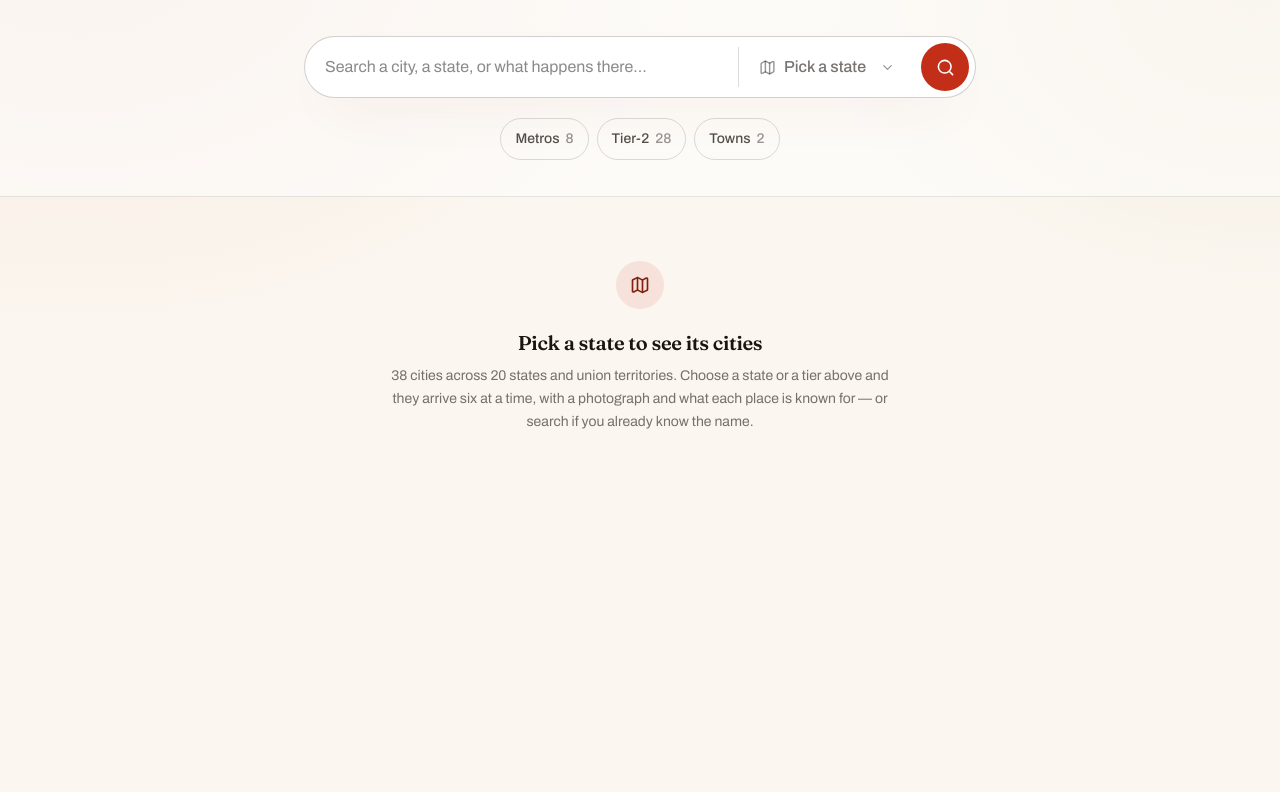
Test: CityExplorer › clicking the chip you are on clears it and closes the listing
Click the button "Metros8".
click(544, 139)  # box [500,118,588,160]
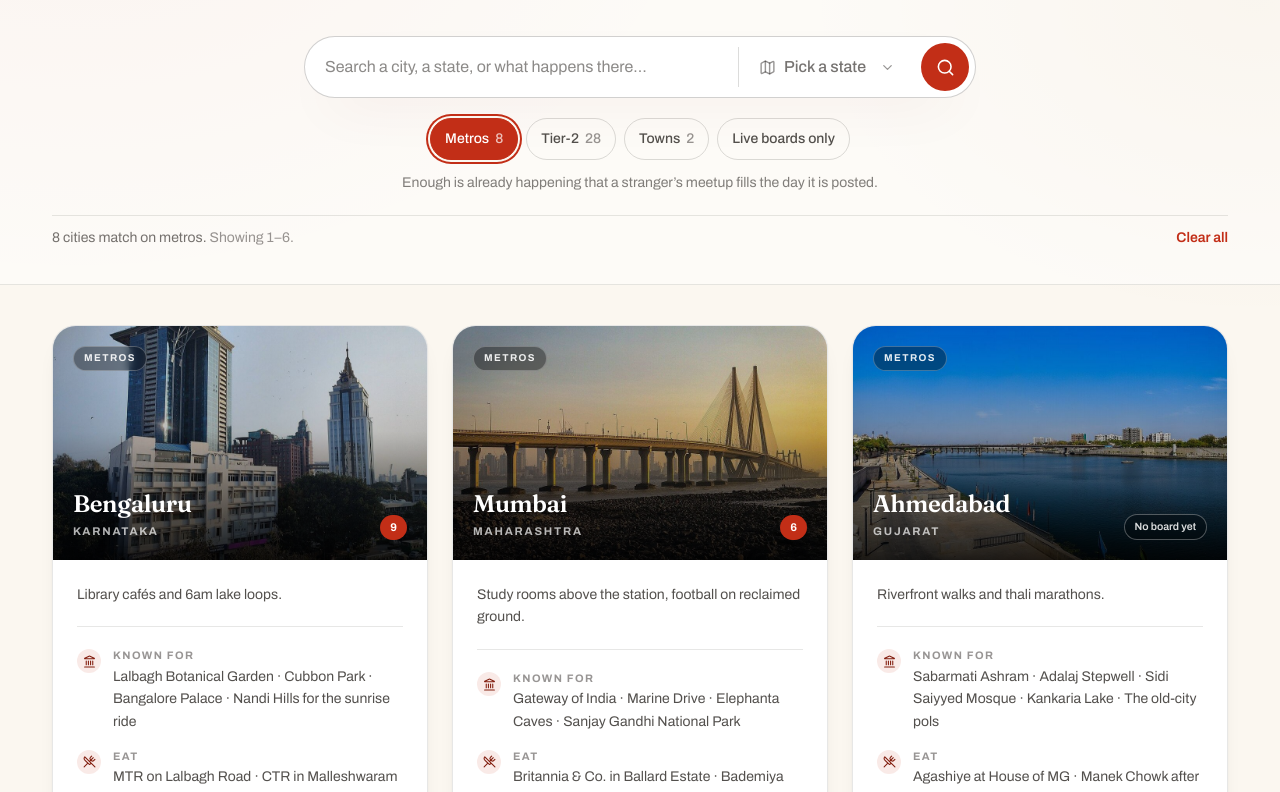
Click the button "Metros8".
click(474, 139)  # box [430,118,518,160]
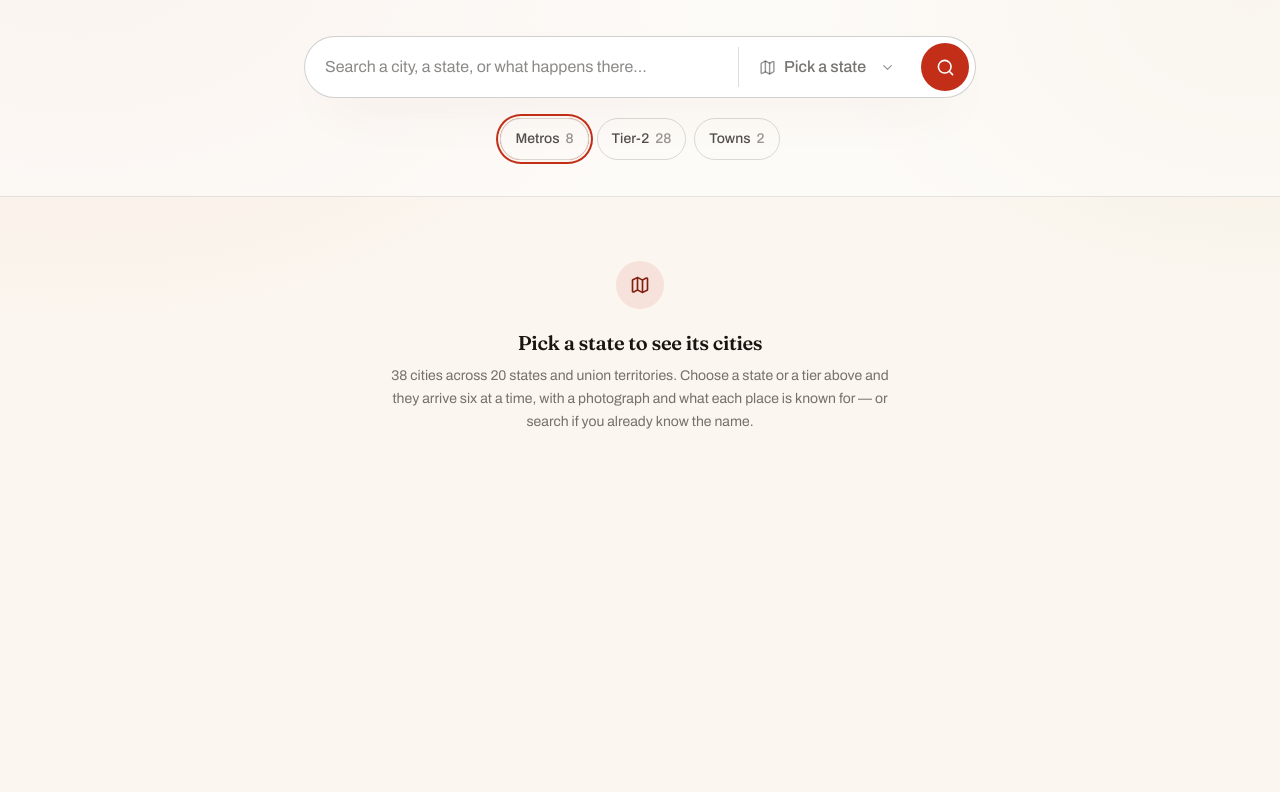
Expected: the heading "Pick a state to see its cities" is shown, [518,330,762,355]
